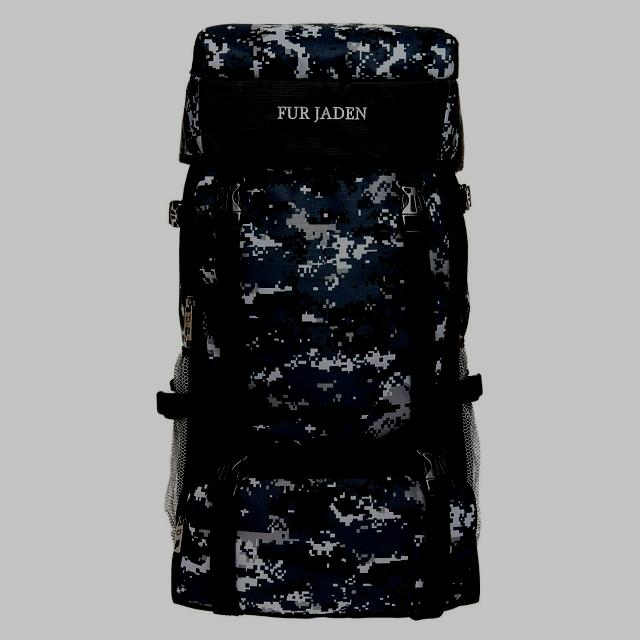backpack: (158, 24, 484, 621)
